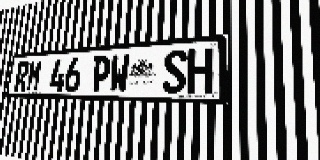4: (49, 58, 67, 92)
6: (64, 57, 83, 92)
H: (187, 48, 213, 94)
M: (26, 60, 43, 92)
P: (90, 55, 111, 93)
R: (14, 61, 30, 92)
S: (162, 49, 187, 93)
W: (108, 54, 130, 93)
